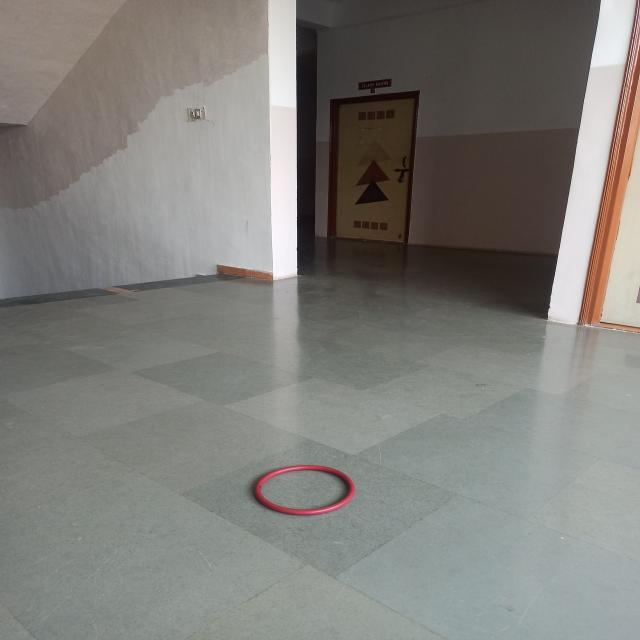daire: (254, 462, 355, 518)
